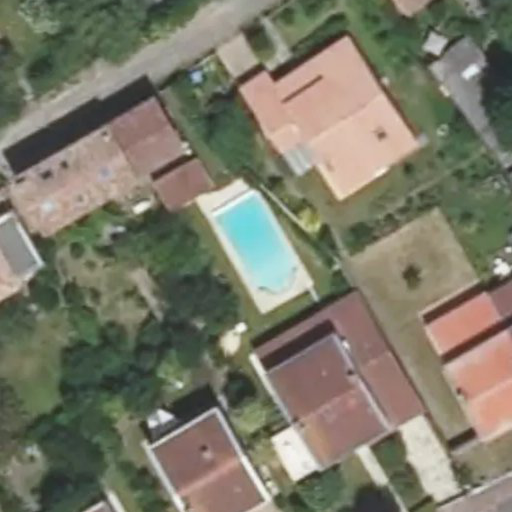pool: (215, 213, 296, 270)
